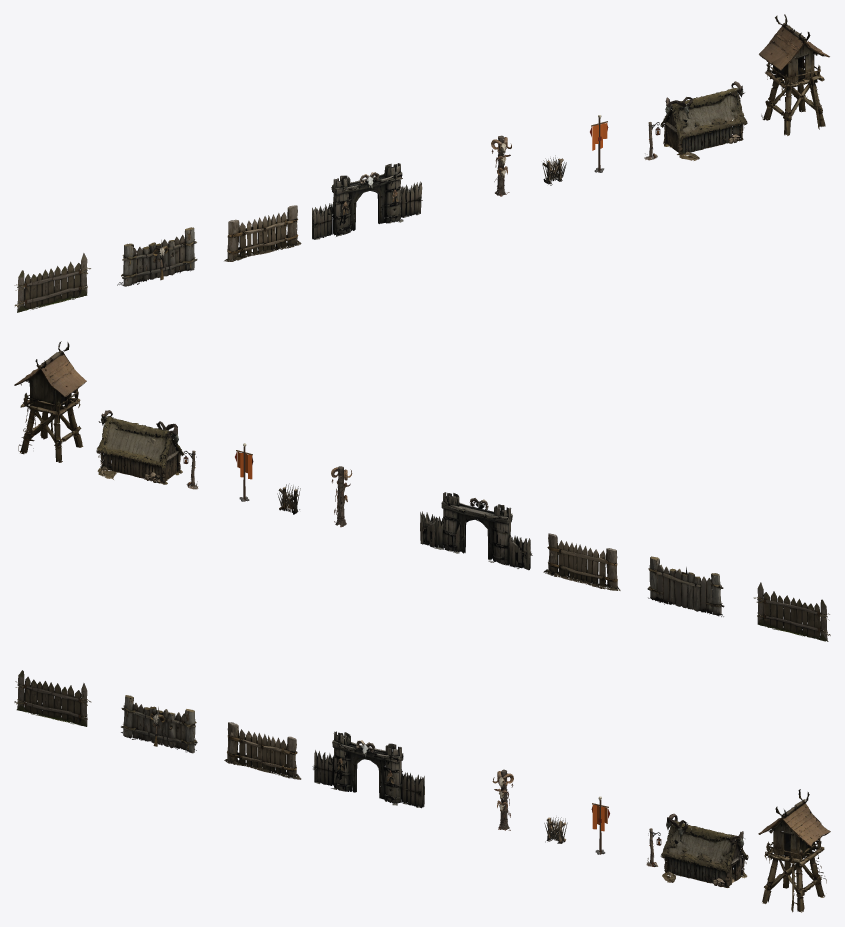
The model's file is goblin-fort-kit.glb.
The picture shows the model from 3 angles, top to bottom: view 1: azimuth 30°, elevation 25°; view 2: azimuth 150°, elevation 25°; view 3: azimuth 330°, elevation 25°; orthographic projection.
Visible parts, largest first — view 1: goblin_hut, goblin_gate, goblin_tower, goblin_palisade_b, goblin_palisade_c, goblin_palisade_a, goblin_totem; view 2: goblin_hut, goblin_gate, goblin_tower, goblin_palisade_b, goblin_palisade_c, goblin_palisade_a, goblin_totem; view 3: goblin_hut, goblin_gate, goblin_tower, goblin_palisade_b, goblin_palisade_c, goblin_palisade_a, goblin_totem, goblin_banner.
Boxes of the visible parts, x1,y1,x2,y2 form: goblin_hut: (660,81,747,160); goblin_gate: (312,163,422,239); goblin_tower: (759,14,829,135); goblin_palisade_b: (117,227,197,286); goblin_palisade_c: (224,205,301,261); goblin_palisade_a: (14,253,90,312); goblin_totem: (491,135,511,196); goblin_hut: (96,410,184,484); goblin_gate: (420,492,532,570); goblin_tower: (14,341,86,462); goblin_palisade_b: (647,556,724,616); goblin_palisade_c: (543,533,620,590); goblin_palisade_a: (753,582,830,641); goblin_totem: (331,466,352,527); goblin_hut: (660,813,748,887); goblin_gate: (312,731,424,808); goblin_tower: (758,789,830,912); goblin_palisade_b: (121,695,197,753); goblin_palisade_c: (224,722,301,779); goblin_palisade_a: (14,670,91,726); goblin_totem: (492,769,513,830); goblin_banner: (591,796,609,854).
Bounding box in the file's own units: 53.85 × 6.61 × 3.48.
Materials: 10 (10 with a texture image).
